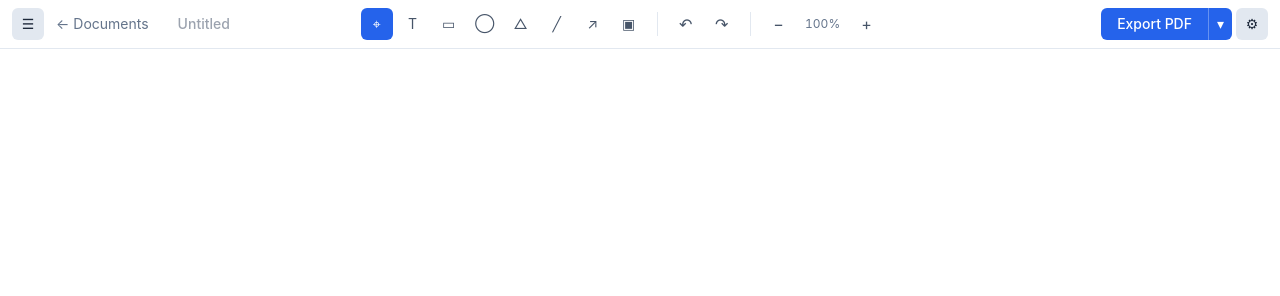
Test: export menu › closes once an export starts
Click the button named "More export options".
click(1220, 24)  # box left=1208, top=8, right=1232, bottom=40
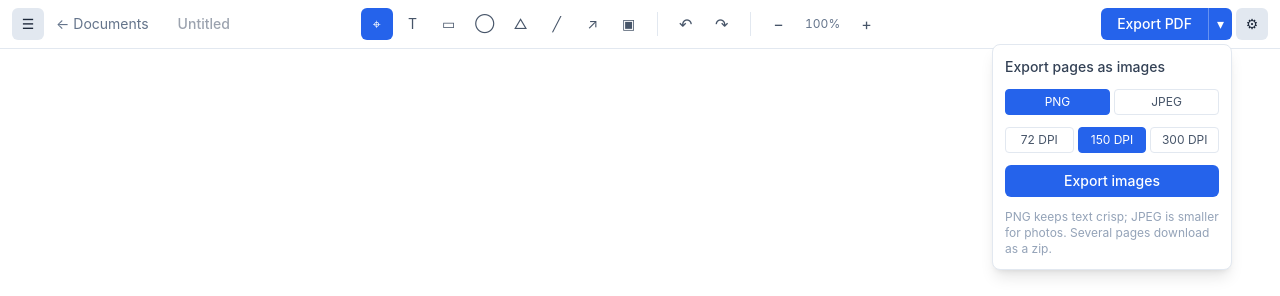
Click the button "Export images".
click(1112, 181)  # box left=1005, top=165, right=1219, bottom=197
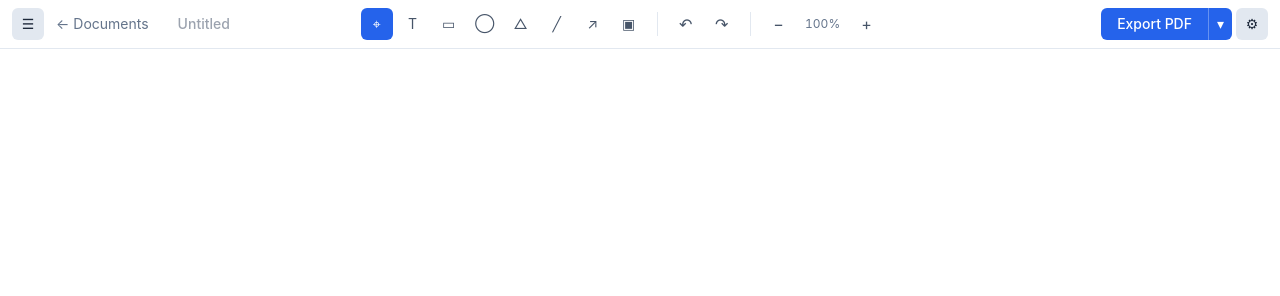
Result: the button "Export images" is gone
